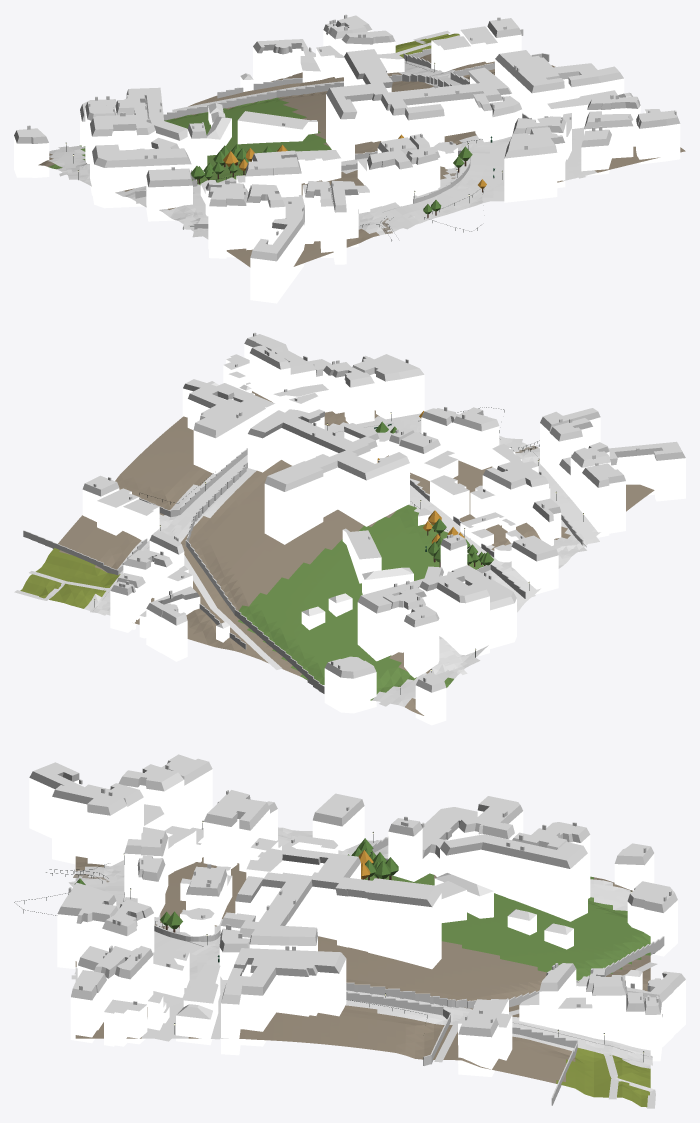
Rendered from zone_D5.glb.
3 renders of one model, top to bottom at view 1: azimuth 30°, elevation 25°; view 2: azimuth 150°, elevation 25°; view 3: azimuth 270°, elevation 25°, orthographic. The views are drawn at different scales.
Parts seen in each view (by area): view 1: zone_D5_batiments, zone_D5_terrain, zone_D5_sol_NOCOL, zone_D5_decor_NOCOL; view 2: zone_D5_batiments, zone_D5_terrain, zone_D5_sol_NOCOL, zone_D5_decor_NOCOL; view 3: zone_D5_batiments, zone_D5_terrain, zone_D5_sol_NOCOL, zone_D5_decor_NOCOL.
Boxes of the visible parts, left/top/right/bottom form: zone_D5_batiments: left=14, top=14, right=680, bottom=303; zone_D5_terrain: left=38, top=33, right=685, bottom=267; zone_D5_sol_NOCOL: left=58, top=30, right=585, bottom=237; zone_D5_decor_NOCOL: left=65, top=53, right=502, bottom=241; zone_D5_batiments: left=23, top=332, right=685, bottom=725; zone_D5_terrain: left=20, top=391, right=654, bottom=715; zone_D5_sol_NOCOL: left=14, top=413, right=599, bottom=706; zone_D5_decor_NOCOL: left=94, top=407, right=586, bottom=694; zone_D5_batiments: left=29, top=754, right=685, bottom=1105; zone_D5_terrain: left=75, top=827, right=650, bottom=1107; zone_D5_sol_NOCOL: left=68, top=830, right=657, bottom=1108; zone_D5_decor_NOCOL: left=14, top=821, right=644, bottom=1061.
Bounding box in the file's own units: 212 × 57.85 × 214.
